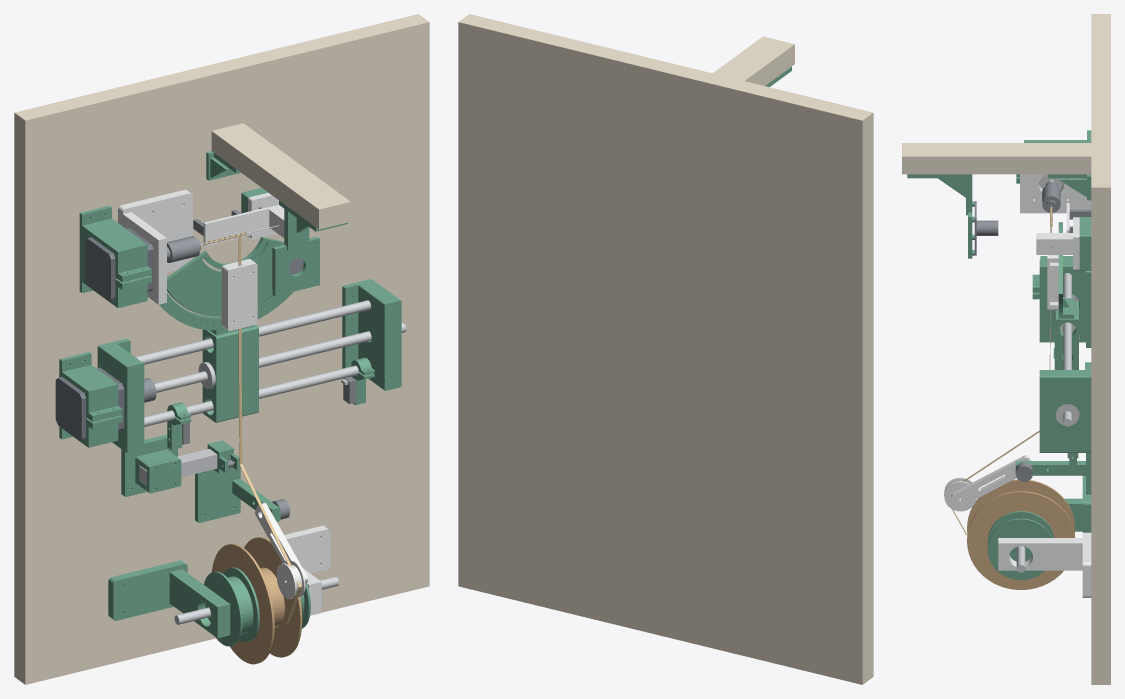
File: phase1_core_cell.glb
3 renders of one model, left to right at view 1: azimuth 30°, elevation 25°; view 2: azimuth 150°, elevation 25°; view 3: azimuth 270°, elevation 25°, orthographic. The views are drawn at different scales.
Parts seen in each view (by area): view 1: base_plywood_18mm, camera_mast_plywood, veneer_spool, F09_spool_stand_left_608_bore, W12_angle_adjustable_guide_arm, W10_linear_idler_end_block, W11_lm8uu_traverse_carriage, W15_nema17_body_clamp_rotation, W01_nema17_rotation_mount, W16_nema17_body_clamp_linear, W09_linear_motor_end_block, W18_camera_arm (+20 smaller); view 2: base_plywood_18mm, camera_mast_plywood; view 3: base_plywood_18mm, camera_mast_plywood, veneer_spool, W10_linear_idler_end_block, F02_spool_stand_right, W09_linear_motor_end_block, F10_spool_hub_2, W01_nema17_rotation_mount, F04_dancer_arm, W05_mandrel_end_guide, W18_camera_arm, F11_dancer_pivot_post (+10 smaller).
Boxes of the visible parts, box(x1,y1,x2,y2) form: base_plywood_18mm: box(14, 14, 429, 684); camera_mast_plywood: box(211, 123, 350, 229); veneer_spool: box(211, 537, 302, 664); F09_spool_stand_left_608_bore: box(108, 560, 230, 638); W12_angle_adjustable_guide_arm: box(159, 236, 293, 335); W10_linear_idler_end_block: box(342, 279, 401, 390); W11_lm8uu_traverse_carriage: box(202, 325, 258, 422); W15_nema17_body_clamp_rotation: box(79, 205, 151, 308); W01_nema17_rotation_mount: box(118, 189, 192, 304); W16_nema17_body_clamp_linear: box(59, 352, 122, 447); W09_linear_motor_end_block: box(97, 338, 144, 453); W18_camera_arm: box(272, 200, 347, 295); base_plywood_18mm: box(458, 14, 873, 684); camera_mast_plywood: box(713, 36, 794, 85); base_plywood_18mm: box(1091, 14, 1110, 684); camera_mast_plywood: box(902, 143, 1091, 174); veneer_spool: box(967, 479, 1075, 589); W10_linear_idler_end_block: box(1039, 364, 1091, 452); F02_spool_stand_right: box(998, 532, 1091, 597); W09_linear_motor_end_block: box(1039, 259, 1091, 347); F10_spool_hub_2: box(987, 511, 1054, 579); W01_nema17_rotation_mount: box(1020, 174, 1091, 213); F04_dancer_arm: box(951, 455, 1031, 507); W05_mandrel_end_guide: box(1036, 217, 1079, 270); W18_camera_arm: box(907, 174, 974, 258); F11_dancer_pivot_post: box(1015, 453, 1091, 494).
Bounding box in the file's own units: 380 × 507 × 193.
